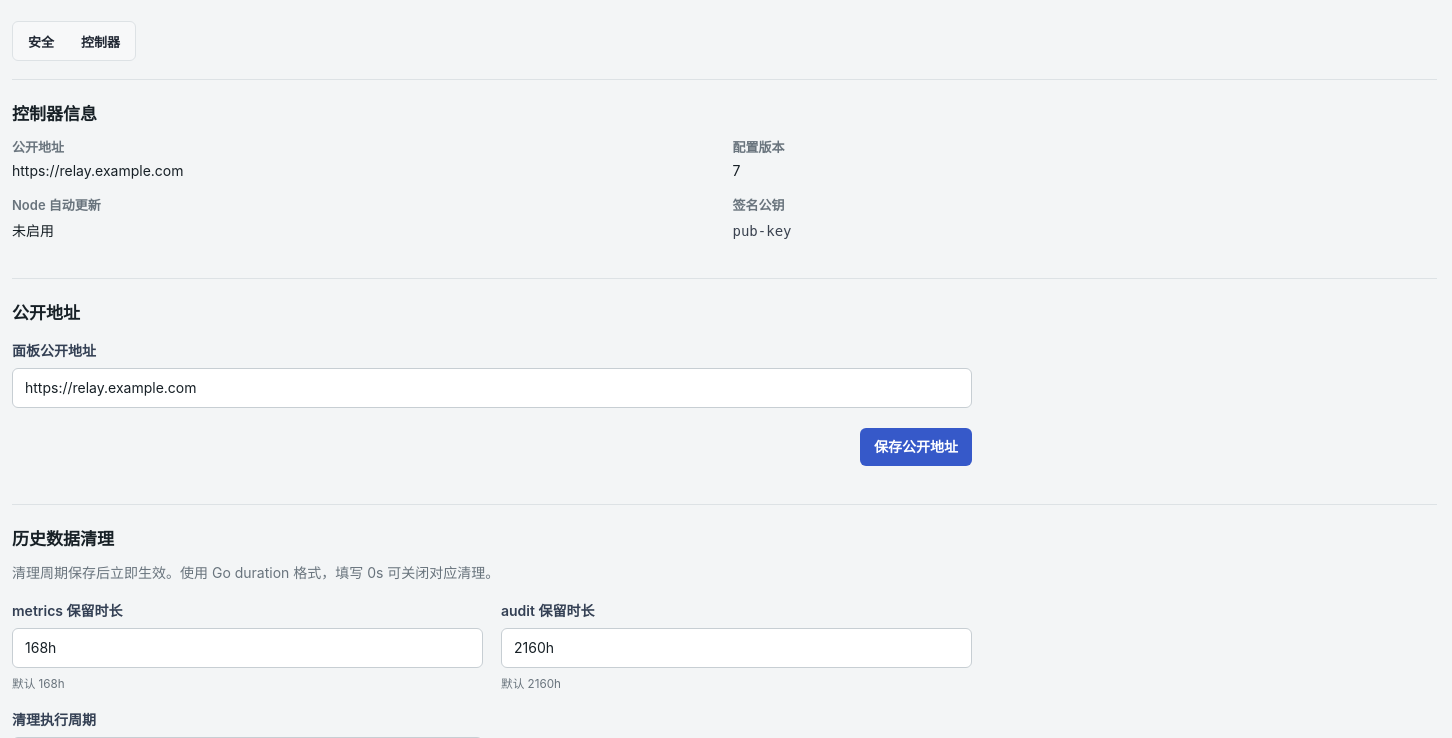
Test: auth and security flows › updates history cleanup settings without a restart
Expected: the field showing "https://relay.example.com" is shown, 12,368 -> 972,408
Type "24h" into the field labelled "metrics 保留时长" at (248, 648), box 12,628 -> 483,668
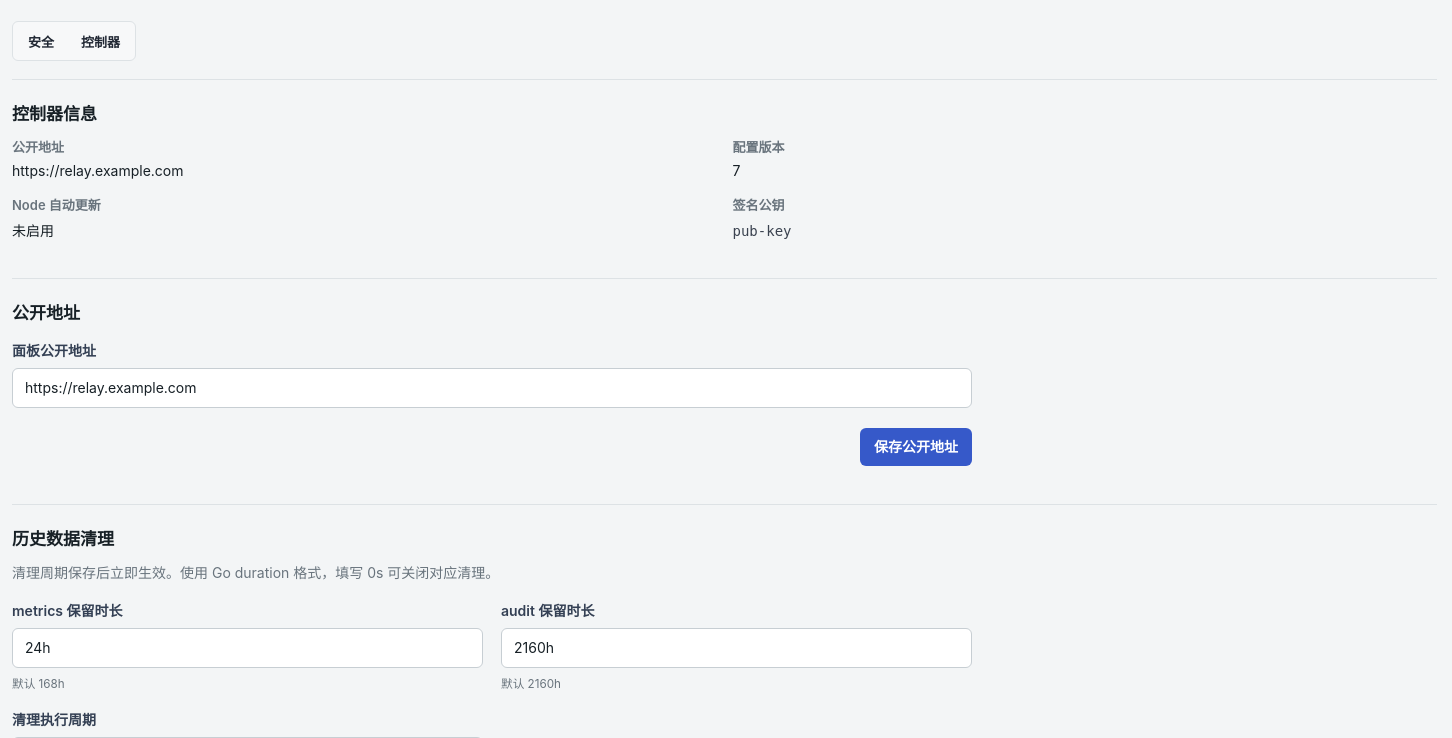
Type "720h" into the field labelled "audit 保留时长" at (736, 648), box 501,628 -> 972,668
(page scrolled)
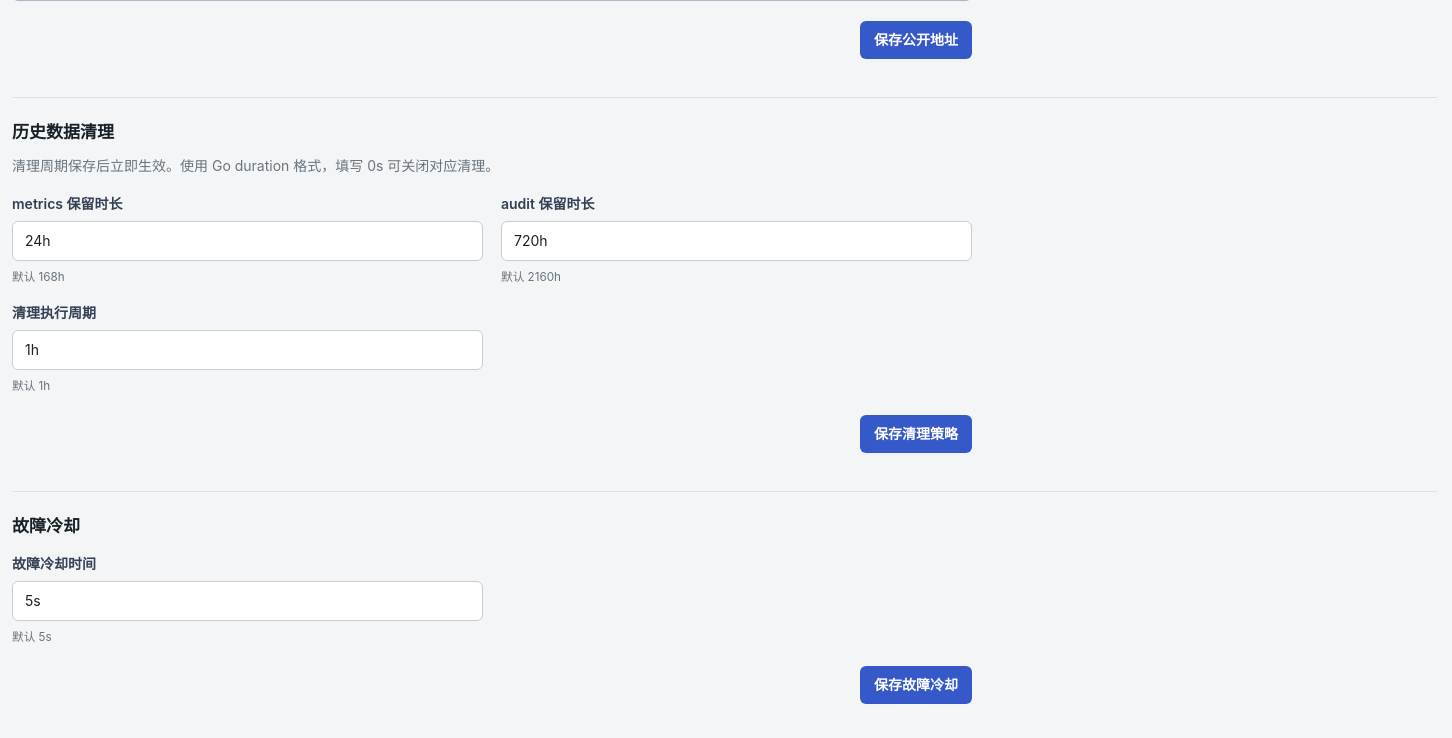
Type "15m" into the field labelled "清理执行周期" at (248, 350), box 12,330 -> 483,370
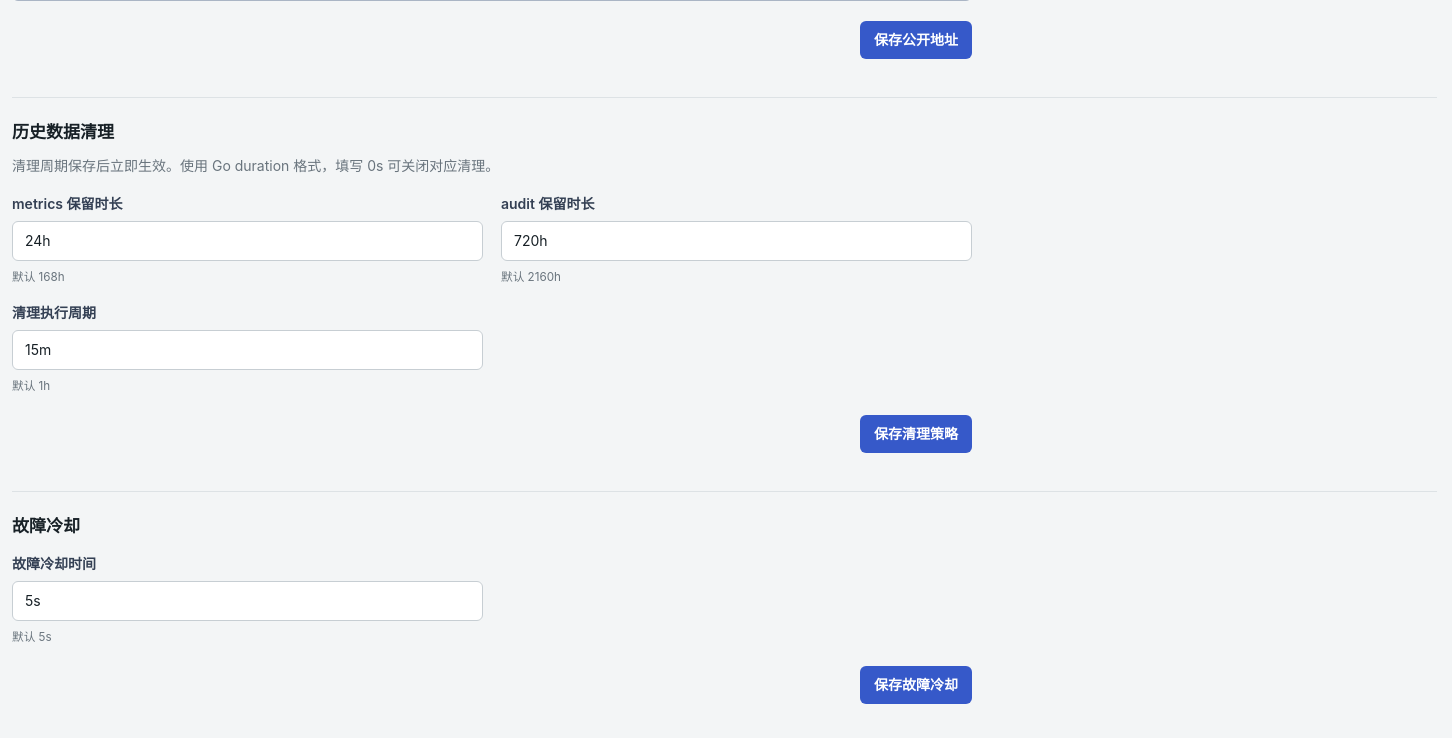
Click the button "保存清理策略" at (916, 434), box 860,415 -> 972,453
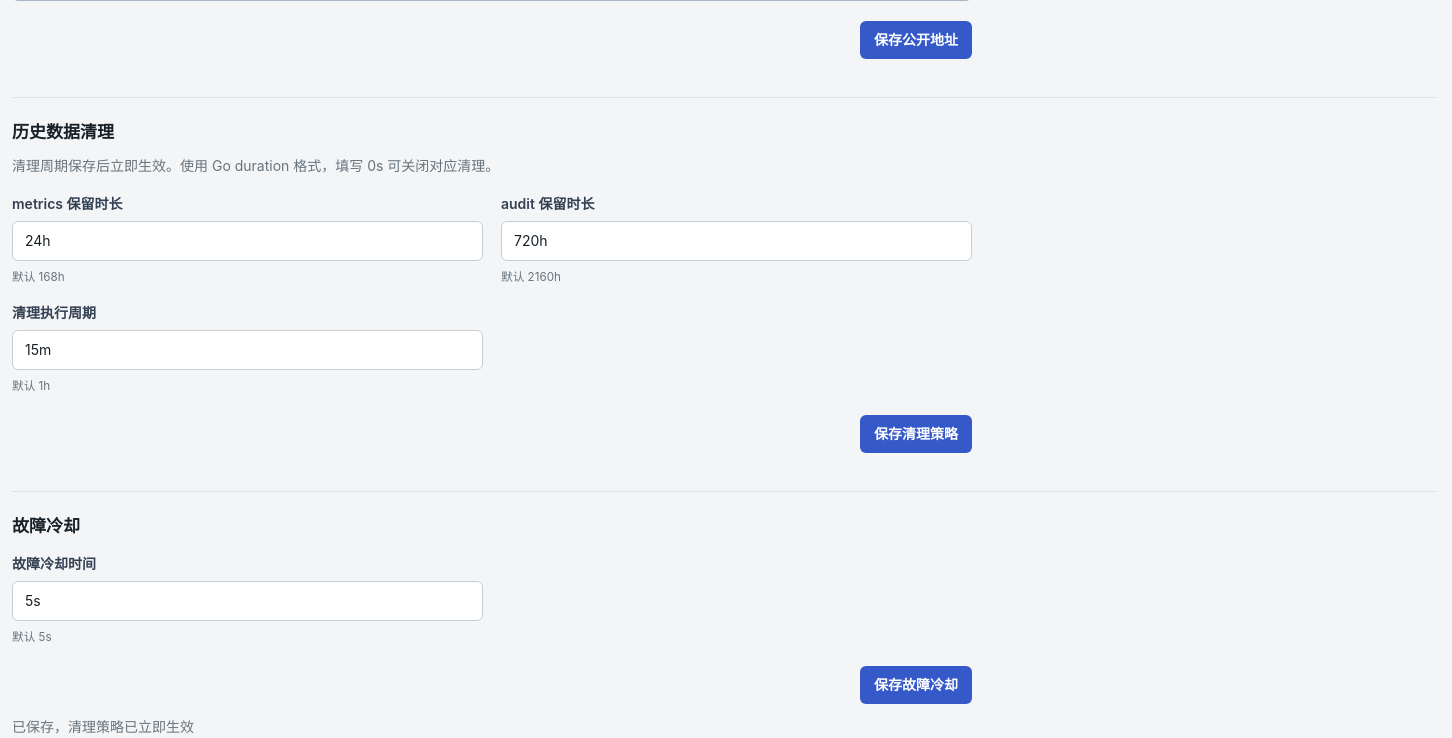
Result: the text "已保存，清理策略已立即生效" is shown at 12,718 -> 194,735
